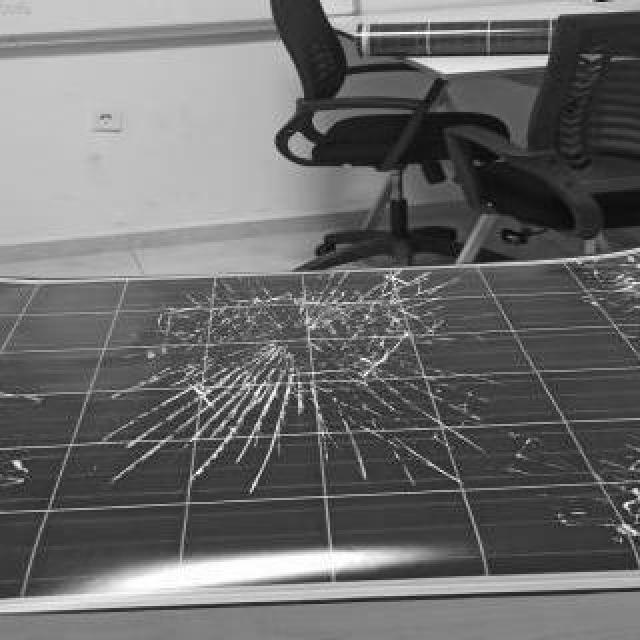Physical-damage: (0, 271, 640, 553)
